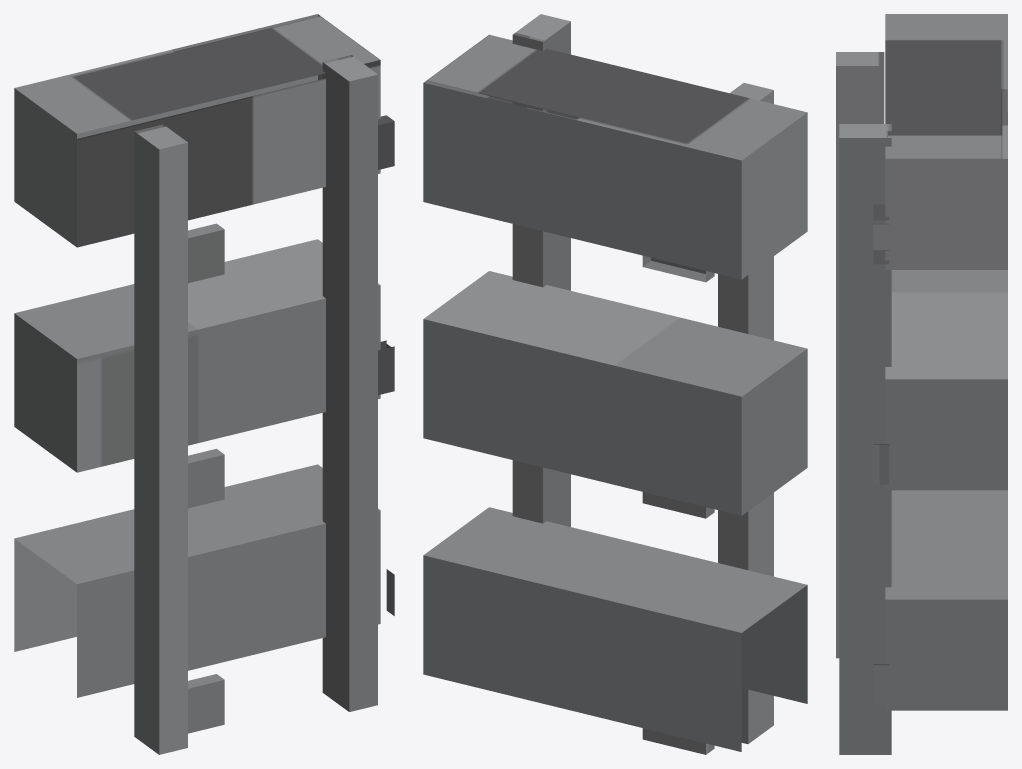
The picture shows the model from 3 angles, left to right: view 1: azimuth 30°, elevation 25°; view 2: azimuth 150°, elevation 25°; view 3: azimuth 270°, elevation 25°; orthographic projection. The views are drawn at different scales.
Size of the model in its own units: 0.3997 by 0.78 by 0.1952.
